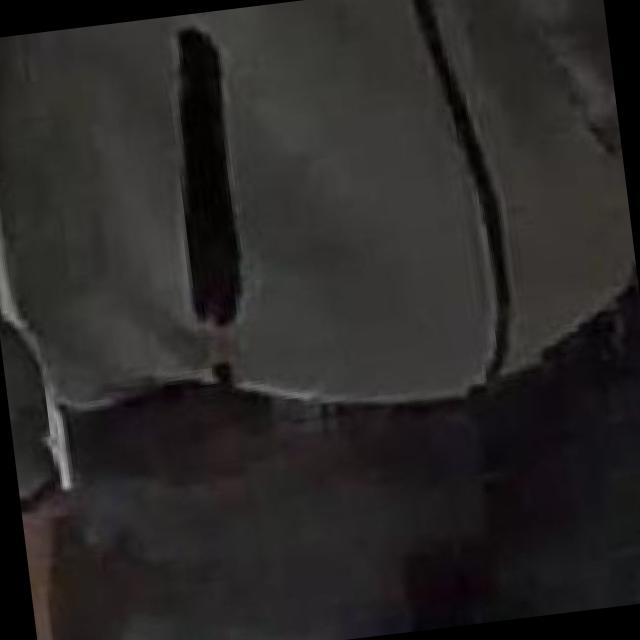Guns: (17, 463, 176, 640)
